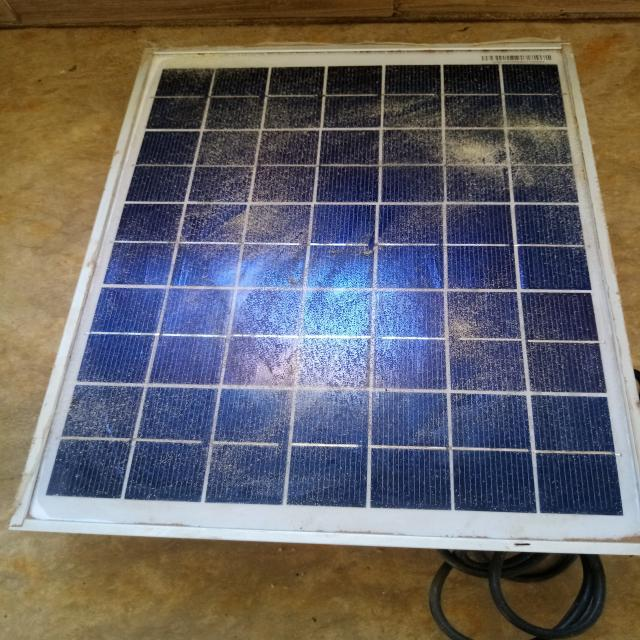faulty: (12, 46, 640, 548)
